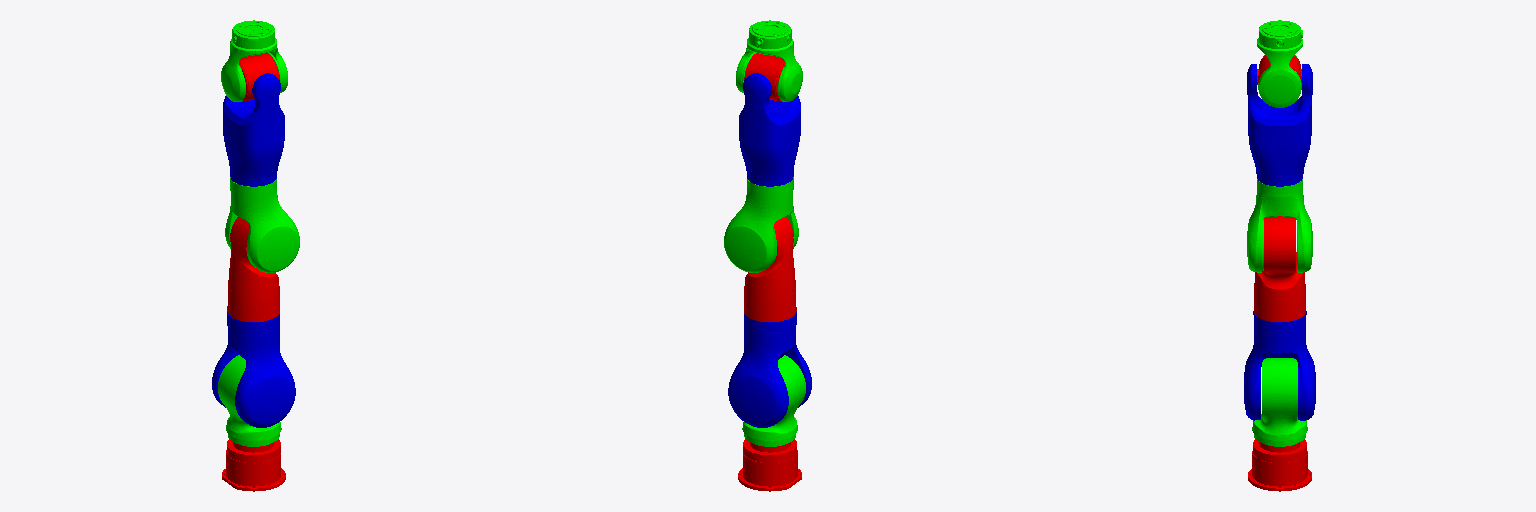
URDF robot description (Marvin M6-S-R-CCS-696-V4.0 urdf):
<?xml version="1.0" encoding="utf-8"?>
<!-- This URDF was automatically created by SolidWorks to URDF Exporter! Originally created by Stephen Brawner (brawner@gmail.com) 
     Commit Version: 1.5.1-0-g916b5db  Build Version: 1.5.7152.31018
     For more information, please see http://wiki.ros.org/sw_urdf_exporter -->
<robot
  name="Marvin M6-S-R-CCS-696-V4.0 urdf">
  <link
    name="Base_R">
    <inertial>
      <origin
        xyz="0.00032267 4.798E-05 0.04066353"
        rpy="0 0 0" />
      <mass
        value="1.1962" />
      <inertia
        ixx="0.00107329"
        ixy="-1.68E-06"
        ixz="-1.05E-05"
        iyy="0.00107003"
        iyz="-3.43E-06"
        izz="0.00127315" />
    </inertial>
    <visual>
      <origin
        xyz="0 0 0"
        rpy="0 0 0" />
      <geometry>
        <mesh
          filename="package://Marvin M6-S-R-CCS-696-V4.0_URDF/meshes/Base_R.STL" />
      </geometry>
      <material
        name="">
        <color
          rgba="1 0 0 1" />
      </material>
    </visual>
    <collision>
      <origin
        xyz="0 0 0"
        rpy="0 0 0" />
      <geometry>
        <mesh
          filename="package://Marvin M6-S-R-CCS-696-V4.0_URDF/meshes/Base_R.STL" />
      </geometry>
    </collision>
  </link>
  <link
    name="Link1_R">
    <inertial>
      <origin
        xyz="0.00002347 0.00557150 -0.03075998"
        rpy="0 0 0" />
      <mass
        value="1.9705" />
      <inertia
        ixx="0.00492293"
        ixy="0.00000550"
        ixz="0.00000193"
        iyy="0.00526513"
        iyz="0.00033232"
        izz="0.00188107" />
    </inertial>
    <visual>
      <origin
        xyz="0 0 0"
        rpy="0 0 0" />
      <geometry>
        <mesh
          filename="package://Marvin M6-S-R-CCS-696-V4.0_URDF/meshes/Link1_R.STL" />
      </geometry>
      <material
        name="">
        <color
          rgba="0 1 0 1" />
      </material>
    </visual>
    <collision>
      <origin
        xyz="0 0 0"
        rpy="0 0 0" />
      <geometry>
        <mesh
          filename="package://Marvin M6-S-R-CCS-696-V4.0_URDF/meshes/Link1_R.STL" />
      </geometry>
    </collision>
  </link>
  <joint
    name="Joint1_R"
    type="revolute">
    <origin
      xyz="0 0 0.1745"
      rpy="0 0 0" />
    <parent
      link="Base_R" />
    <child
      link="Link1_R" />
    <axis
      xyz="0 0 1" />
    <limit
      lower="-3.1067"
      upper="3.1067"
      effort="108"
      velocity="3.1416" />
  </joint>
  <link
    name="Link2_R">
    <inertial>
      <origin
        xyz="0.00013483 0.06170460 0.00950639"
        rpy="0 0 0" />
      <mass
        value="2.24398" />
      <inertia
        ixx="0.01194933"
        ixy="0.00000336"
        ixz="0.00000091"
        iyy="0.00361581"
        iyz="-0.00132804"
        izz="0.01098356" />
    </inertial>
    <visual>
      <origin
        xyz="0 0 0"
        rpy="0 0 0" />
      <geometry>
        <mesh
          filename="package://Marvin M6-S-R-CCS-696-V4.0_URDF/meshes/Link2_R.STL" />
      </geometry>
      <material
        name="">
        <color
          rgba="0 0 1 1" />
      </material>
    </visual>
    <collision>
      <origin
        xyz="0 0 0"
        rpy="0 0 0" />
      <geometry>
        <mesh
          filename="package://Marvin M6-S-R-CCS-696-V4.0_URDF/meshes/Link2_R.STL" />
      </geometry>
    </collision>
  </link>
  <joint
    name="Joint2_R"
    type="revolute">
    <origin
      xyz="0 0 0"
      rpy="1.5708 0 0" />
    <parent
      link="Link1_R" />
    <child
      link="Link2_R" />
    <axis
      xyz="0 0 1" />
    <limit
      lower="-2.0944"
      upper="2.0944"
      effort="108"
      velocity="3.1416" />
  </joint>
  <link
    name="Link3_R">
    <inertial>
      <origin
        xyz="0.00968562 0.00246599 -0.04627302"
        rpy="0 0 0" />
      <mass
        value="1.9242" />
      <inertia
        ixx="0.00718224"
        ixy="0.00004413"
        ixz="0.00089552"
        iyy="0.00762563"
        iyz="0.00022096"
        izz="0.00178597" />
    </inertial>
    <visual>
      <origin
        xyz="0 0 0"
        rpy="0 0 0" />
      <geometry>
        <mesh
          filename="package://Marvin M6-S-R-CCS-696-V4.0_URDF/meshes/Link3_R.STL" />
      </geometry>
      <material
        name="">
        <color
          rgba="1 0 0 1" />
      </material>
    </visual>
    <collision>
      <origin
        xyz="0 0 0"
        rpy="0 0 0" />
      <geometry>
        <mesh
          filename="package://Marvin M6-S-R-CCS-696-V4.0_URDF/meshes/Link3_R.STL" />
      </geometry>
    </collision>
  </link>
  <joint
    name="Joint3_R"
    type="revolute">
    <origin
      xyz="0 0.287 0"
      rpy="-1.5708 0 0" />
    <parent
      link="Link2_R" />
    <child
      link="Link3_R" />
    <axis
      xyz="0 0 1" />
    <limit
      lower="-3.1067"
      upper="3.1067"
      effort="66"
      velocity="3.1416" />
  </joint>
  <link
    name="Link4_R">
    <inertial>
      <origin
        xyz="0.00850411 -0.04718223 0.00941509"
        rpy="0 0 0" />
      <mass
        value="1.6085" />
      <inertia
        ixx="0.00580480"
        ixy="-0.00066669"
        ixz="-0.00012722"
        iyy="0.00223807"
        iyz="0.00070523"
        izz="0.00533060" />
    </inertial>
    <visual>
      <origin
        xyz="0 0 0"
        rpy="0 0 0" />
      <geometry>
        <mesh
          filename="package://Marvin M6-S-R-CCS-696-V4.0_URDF/meshes/Link4_R.STL" />
      </geometry>
      <material
        name="">
        <color
          rgba="0 1 0 1" />
      </material>
    </visual>
    <collision>
      <origin
        xyz="0 0 0"
        rpy="0 0 0" />
      <geometry>
        <mesh
          filename="package://Marvin M6-S-R-CCS-696-V4.0_URDF/meshes/Link4_R.STL" />
      </geometry>
    </collision>
  </link>
  <joint
    name="Joint4_R"
    type="revolute">
    <origin
      xyz="0.018 0 0"
      rpy="-1.5708 0 3.1416" />
    <parent
      link="Link3_R" />
    <child
      link="Link4_R" />
    <axis
      xyz="0 0 1" />
    <limit
      lower="-2.5307"
      upper="1.0472"
      effort="66"
      velocity="3.1416" />
  </joint>
  <link
    name="Link5_R">
    <inertial>
      <origin
        xyz="-0.00051127 -0.00101064 -0.11271739"
        rpy="0 0 0" />
      <mass
        value="2.0883" />
      <inertia
        ixx="0.00626603"
        ixy="0.00004009"
        ixz="-0.00005338"
        iyy="0.00564387"
        iyz="0.00006193"
        izz="0.00243632" />
    </inertial>
    <visual>
      <origin
        xyz="0 0 0"
        rpy="0 0 0" />
      <geometry>
        <mesh
          filename="package://Marvin M6-S-R-CCS-696-V4.0_URDF/meshes/Link5_R.STL" />
      </geometry>
      <material
        name="">
        <color
          rgba="0 0 1 1" />
      </material>
    </visual>
    <collision>
      <origin
        xyz="0 0 0"
        rpy="0 0 0" />
      <geometry>
        <mesh
          filename="package://Marvin M6-S-R-CCS-696-V4.0_URDF/meshes/Link5_R.STL" />
      </geometry>
    </collision>
  </link>
  <joint
    name="Joint5_R"
    type="revolute">
    <origin
      xyz="0.018 -0.314 0"
      rpy="-1.5708 0 3.1416" />
    <parent
      link="Link4_R" />
    <child
      link="Link5_R" />
    <axis
      xyz="0 0 1" />
    <limit
      lower="-3.1067"
      upper="3.1067"
      effort="18"
      velocity="3.1416" />
  </joint>
  <link
    name="Link6_R">
    <inertial>
      <origin
        xyz="0.00032659 -0.00531336 0.00030182"
        rpy="0 0 0" />
      <mass
        value="0.72496" />
      <inertia
        ixx="0.00046040"
        ixy="-0.00000189"
        ixz="-0.00000083"
        iyy="0.00051716"
        iyz="-0.00000346"
        izz="0.00042521" />
    </inertial>
    <visual>
      <origin
        xyz="0 0 0"
        rpy="0 0 0" />
      <geometry>
        <mesh
          filename="package://Marvin M6-S-R-CCS-696-V4.0_URDF/meshes/Link6_R.STL" />
      </geometry>
      <material
        name="">
        <color
          rgba="1 0 0 1" />
      </material>
    </visual>
    <collision>
      <origin
        xyz="0 0 0"
        rpy="0 0 0" />
      <geometry>
        <mesh
          filename="package://Marvin M6-S-R-CCS-696-V4.0_URDF/meshes/Link6_R.STL" />
      </geometry>
    </collision>
  </link>
  <joint
    name="Joint6_R"
    type="revolute">
    <origin
      xyz="0 0 0"
      rpy="1.5708 -1.5708 0" />
    <parent
      link="Link5_R" />
    <child
      link="Link6_R" />
    <axis
      xyz="0 0 1" />
    <limit
      lower="-1.0472"
      upper="1.0472"
      effort="18"
      velocity="3.1416" />
  </joint>
  <link
    name="Link7_R">
    <inertial>
      <origin
        xyz="-0.00009108 -0.03153255 0.00889371"
        rpy="0 0 0" />
      <mass
        value="0.68606" />
      <inertia
        ixx="0.00173687"
        ixy="-0.00000345"
        ixz="-0.00000116"
        iyy="0.00089035"
        iyz="0.00030680"
        izz="0.00139406" />
    </inertial>
    <visual>
      <origin
        xyz="0 0 0"
        rpy="0 0 0" />
      <geometry>
        <mesh
          filename="package://Marvin M6-S-R-CCS-696-V4.0_URDF/meshes/Link7_R.STL" />
      </geometry>
      <material
        name="">
        <color
          rgba="0 1 0 1" />
      </material>
    </visual>
    <collision>
      <origin
        xyz="0 0 0"
        rpy="0 0 0" />
      <geometry>
        <mesh
          filename="package://Marvin M6-S-R-CCS-696-V4.0_URDF/meshes/Link7_R.STL" />
      </geometry>
    </collision>
  </link>
  <joint
    name="Joint7_R"
    type="revolute">
    <origin
      xyz="0 0 0"
      rpy="1.5708 -1.5708 0" />
    <parent
      link="Link6_R" />
    <child
      link="Link7_R" />
    <axis
      xyz="0 0 1" />
    <limit
      lower="-1.5708"
      upper="1.5708"
      effort="18"
      velocity="3.1416" />
  </joint>
</robot>

--- Render facts (derived) ---
3 views of the same robot in one strip: view 1: azimuth 30°, elevation 25°; view 2: azimuth 150°, elevation 25°; view 3: azimuth 270°, elevation 25° (orthographic).
Model Marvin M6-S-R-CCS-696-V4.0 urdf with 8 links and 7 joints (7 revolute), rooted at Base_R, posed all joints at 0.
Visible links, largest first — view 1: Link2_R, Link5_R, Link4_R, Link3_R, Link7_R, Base_R, Link1_R, Link6_R; view 2: Link2_R, Link5_R, Link4_R, Link3_R, Link7_R, Base_R, Link1_R, Link6_R; view 3: Link5_R, Link3_R, Link2_R, Link1_R, Link4_R, Link7_R, Base_R.
Link boxes in pixels (left/top/right/bottom): Link2_R: left=212, top=312, right=295, bottom=427; Link5_R: left=223, top=73, right=284, bottom=186; Link4_R: left=225, top=177, right=299, bottom=272; Link3_R: left=227, top=217, right=279, bottom=321; Link7_R: left=221, top=20, right=287, bottom=101; Base_R: left=222, top=439, right=285, bottom=491; Link1_R: left=218, top=355, right=281, bottom=446; Link6_R: left=239, top=53, right=279, bottom=101; Link2_R: left=728, top=312, right=811, bottom=427; Link5_R: left=739, top=73, right=800, bottom=186; Link4_R: left=724, top=177, right=798, bottom=272; Link3_R: left=744, top=217, right=796, bottom=321; Link7_R: left=736, top=20, right=802, bottom=101; Base_R: left=738, top=439, right=801, bottom=491; Link1_R: left=742, top=355, right=805, bottom=446; Link6_R: left=744, top=53, right=784, bottom=101; Link5_R: left=1247, top=64, right=1312, bottom=186; Link3_R: left=1254, top=216, right=1305, bottom=321; Link2_R: left=1244, top=311, right=1315, bottom=420; Link1_R: left=1252, top=358, right=1307, bottom=446; Link4_R: left=1247, top=179, right=1312, bottom=272; Link7_R: left=1257, top=20, right=1302, bottom=107; Base_R: left=1248, top=439, right=1311, bottom=491.
Size in the robot's own frame: 0.1262 by 0.1271 by 0.8765 metres.
Meshes: 8 distinct files referenced, 8 mesh visuals loaded (8 binary STL).
